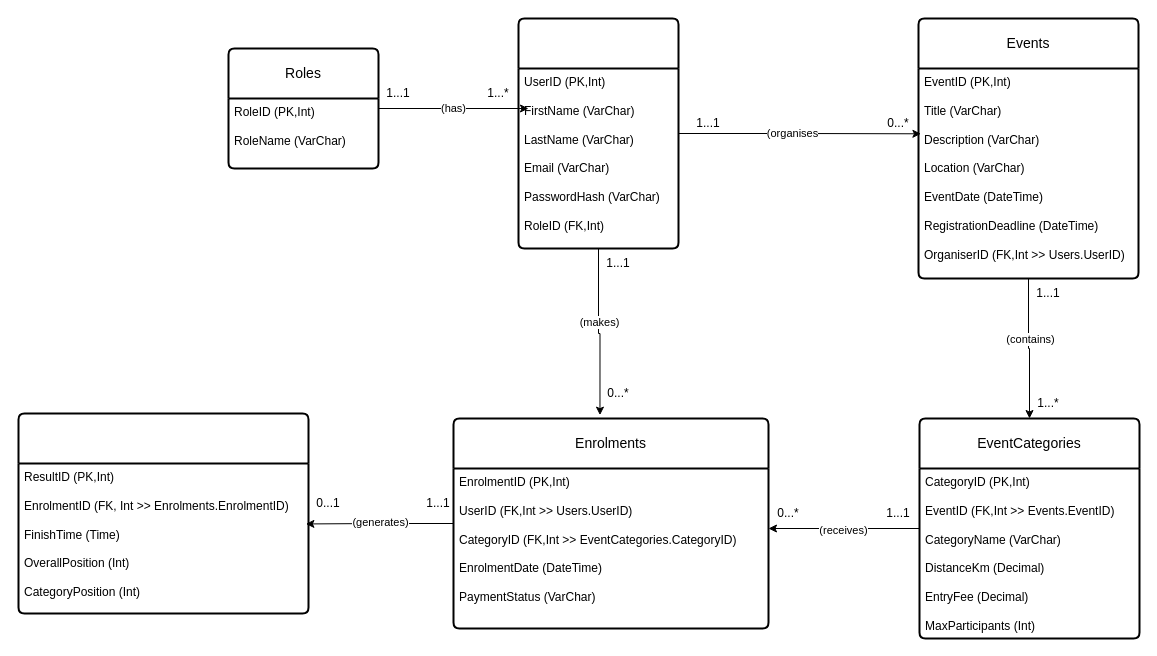
Some shapes in this 1157 by 656 pixel diagram are drawn without their labels. Each missing label, with the box of its shape:
Results: (17, 412, 309, 614)
Users: (517, 17, 679, 249)
